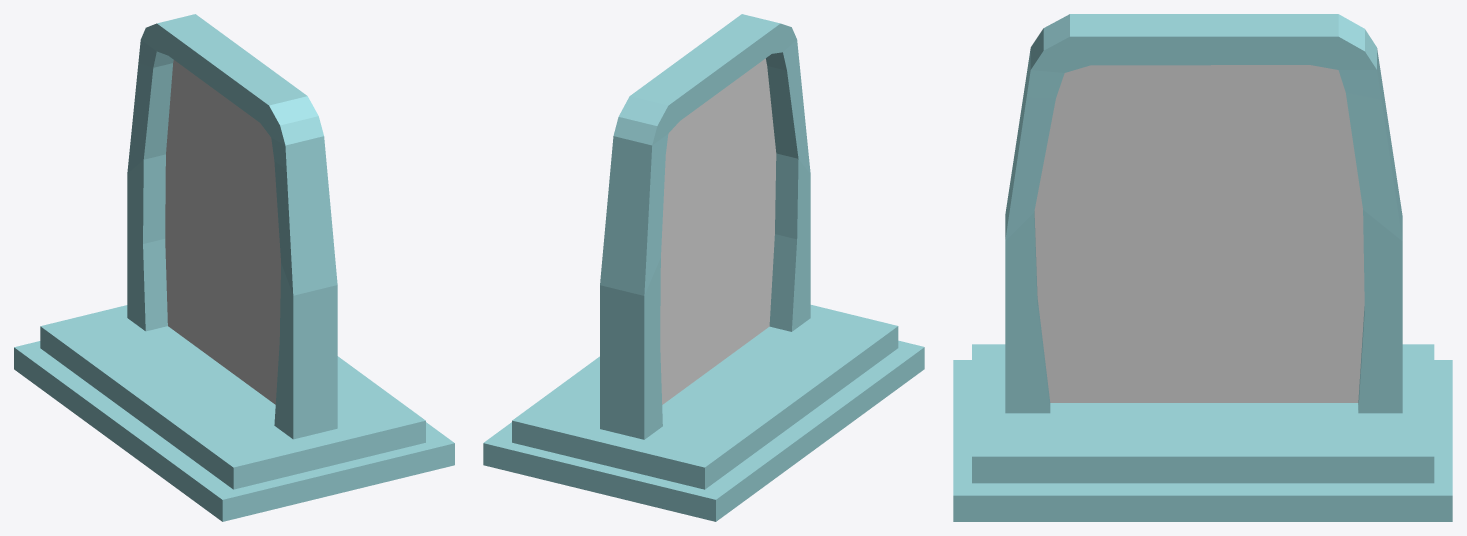
File: puertamejor.fbx
3 renders of one model, left to right at view 1: azimuth 30°, elevation 25°; view 2: azimuth 150°, elevation 25°; view 3: azimuth 270°, elevation 25°, orthographic. The views are drawn at different scales.
Parts seen in each view (by area): view 1: Cube; view 2: Cube; view 3: Cube.
Part boxes in pixels (<box>): Cube: <box>14,14,454,521</box>; Cube: <box>483,14,924,521</box>; Cube: <box>953,14,1452,521</box>.
Bounding box in the file's own units: 355 × 521 × 551.
